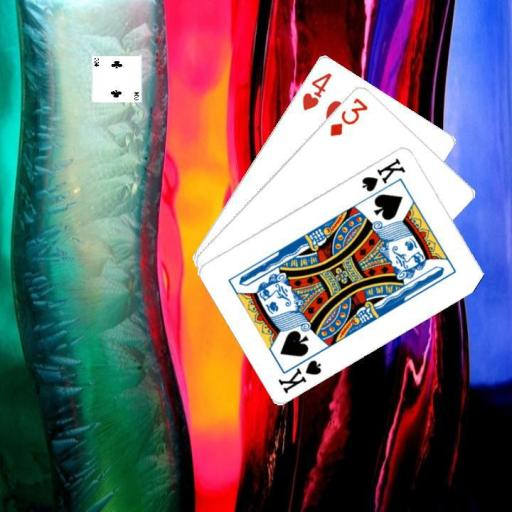3D: (326, 94, 370, 138)
4H: (299, 68, 334, 112)
KS: (275, 348, 324, 395), (358, 155, 407, 194)
